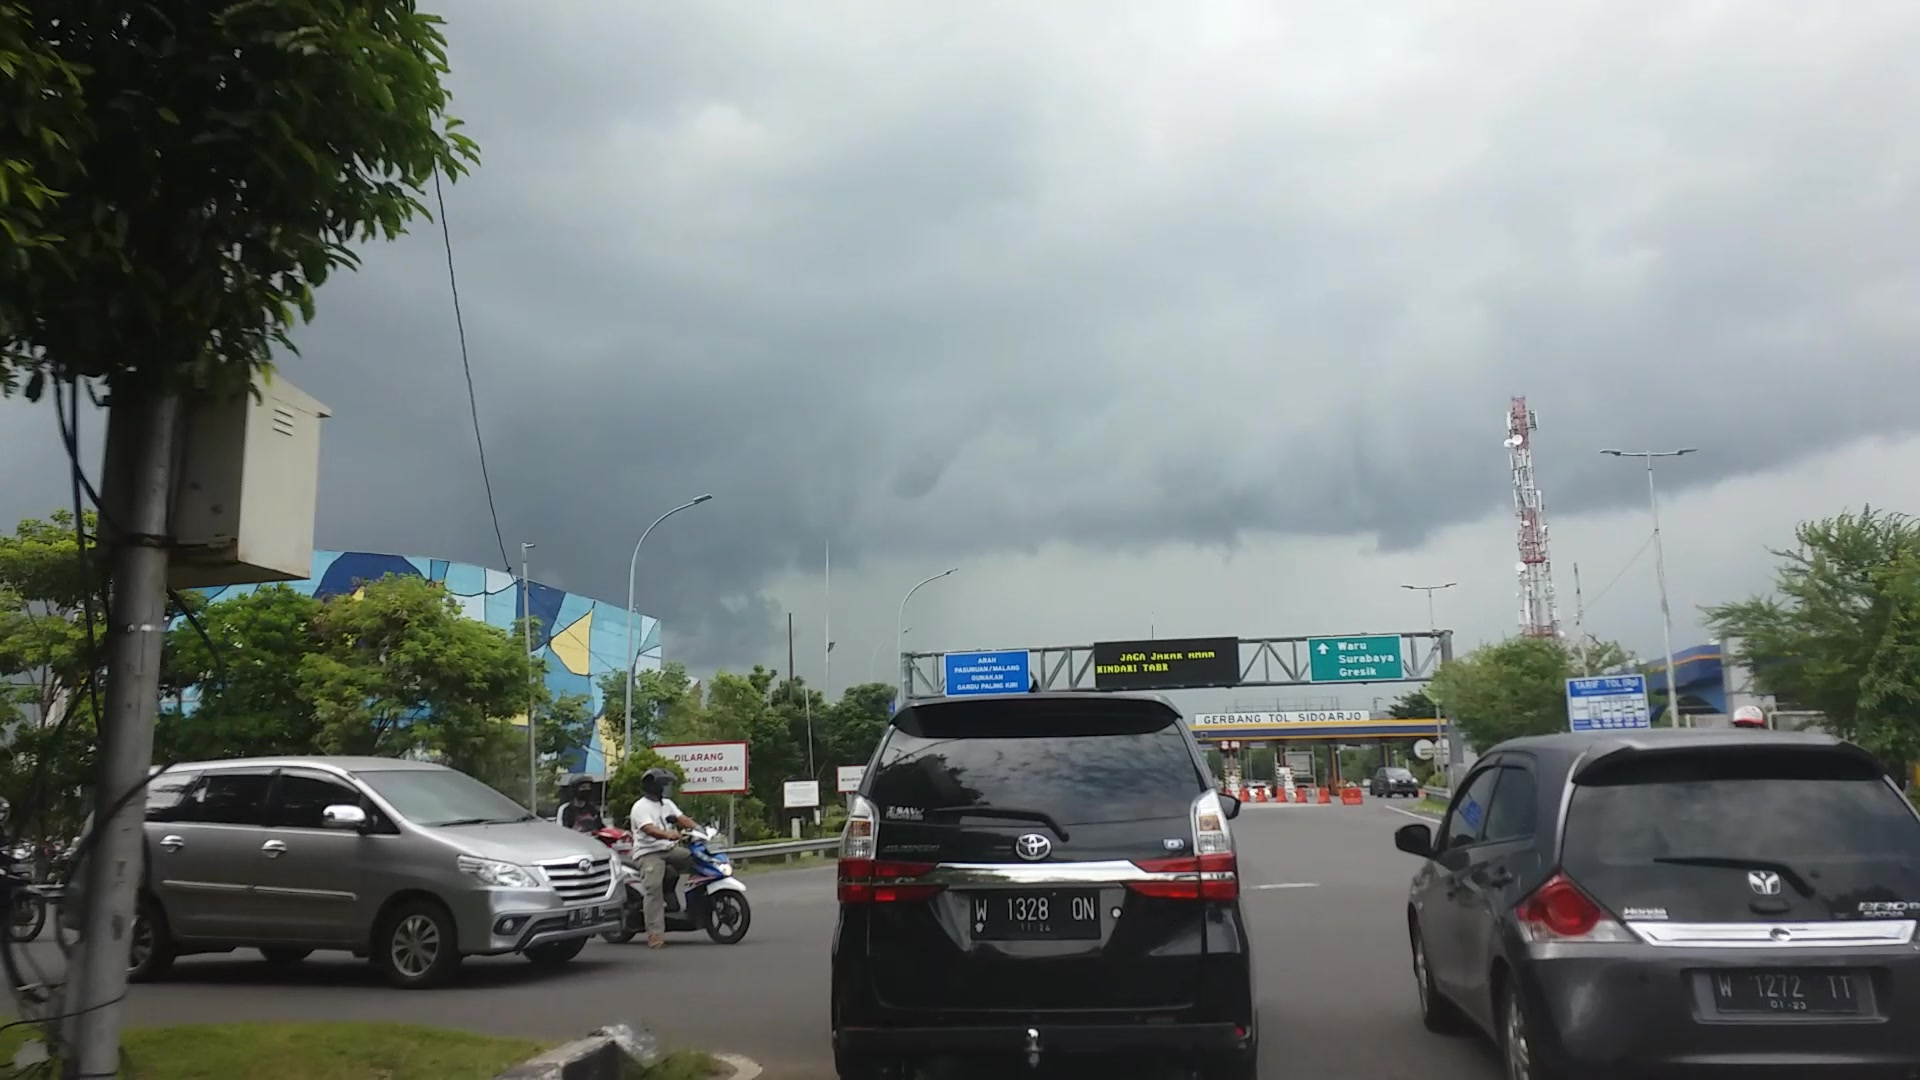plate_positive: (1712, 969, 1858, 1014), (971, 890, 1101, 939)
